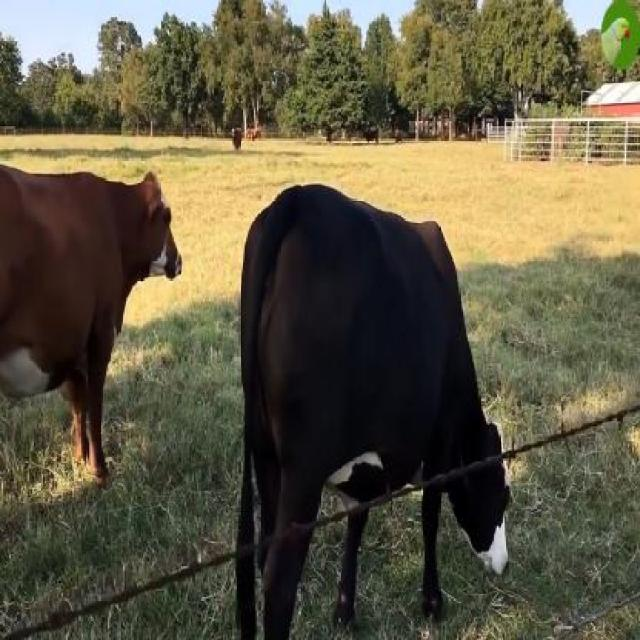Cow: (240, 182, 511, 638)
